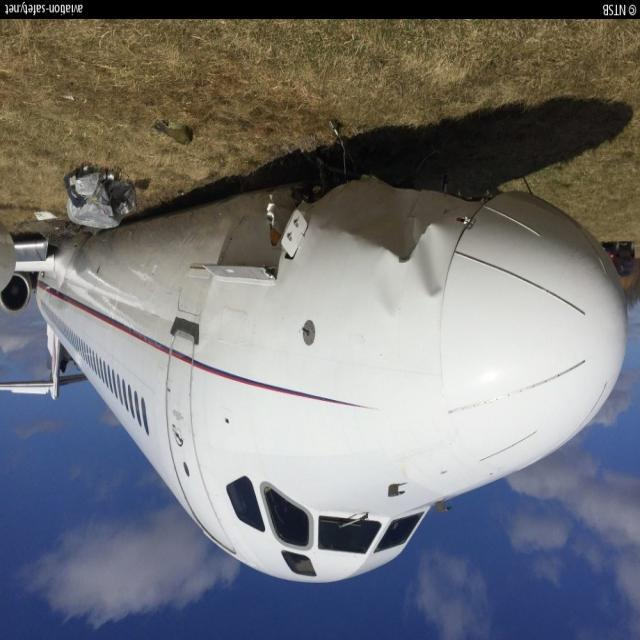dent: (416, 228, 450, 298), (380, 256, 406, 317)
